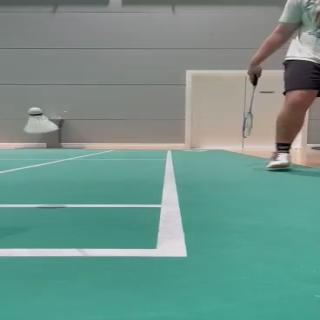Shuttle: (24, 107, 59, 133)
